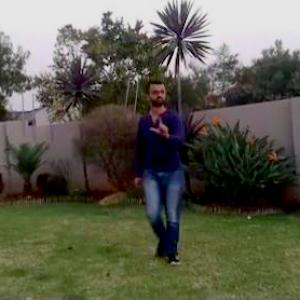land_hand: (152, 105, 181, 141)
